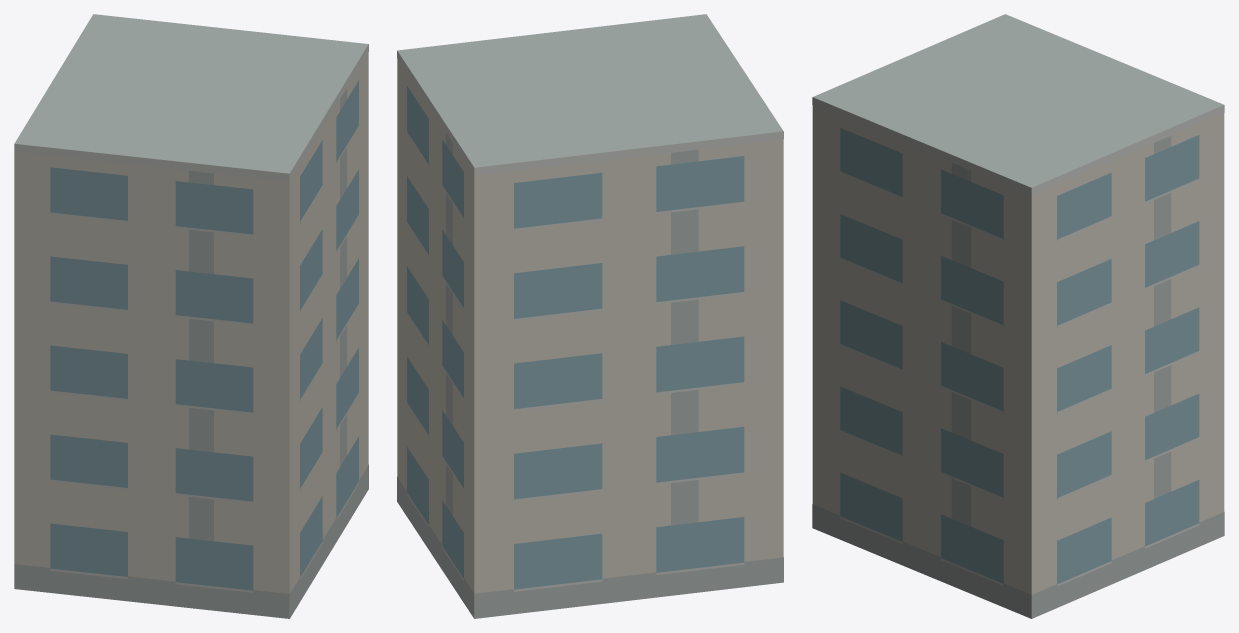
The model's file is survey-upis-32679476.glb.
The picture shows the model from 3 angles, left to right: view 1: azimuth 30°, elevation 25°; view 2: azimuth 150°, elevation 25°; view 3: azimuth 270°, elevation 25°; orthographic projection. The views are drawn at different scales.
Visible parts, largest first — view 1: survey-upis-32679476.tmp; view 2: survey-upis-32679476.tmp; view 3: survey-upis-32679476.tmp.
Part boxes in pixels (x1,y1,x2,y2): survey-upis-32679476.tmp: (14, 14, 368, 618); survey-upis-32679476.tmp: (397, 14, 783, 618); survey-upis-32679476.tmp: (812, 14, 1224, 618).
Size of the model in its own units: 11.68 by 13.5 by 11.7.
